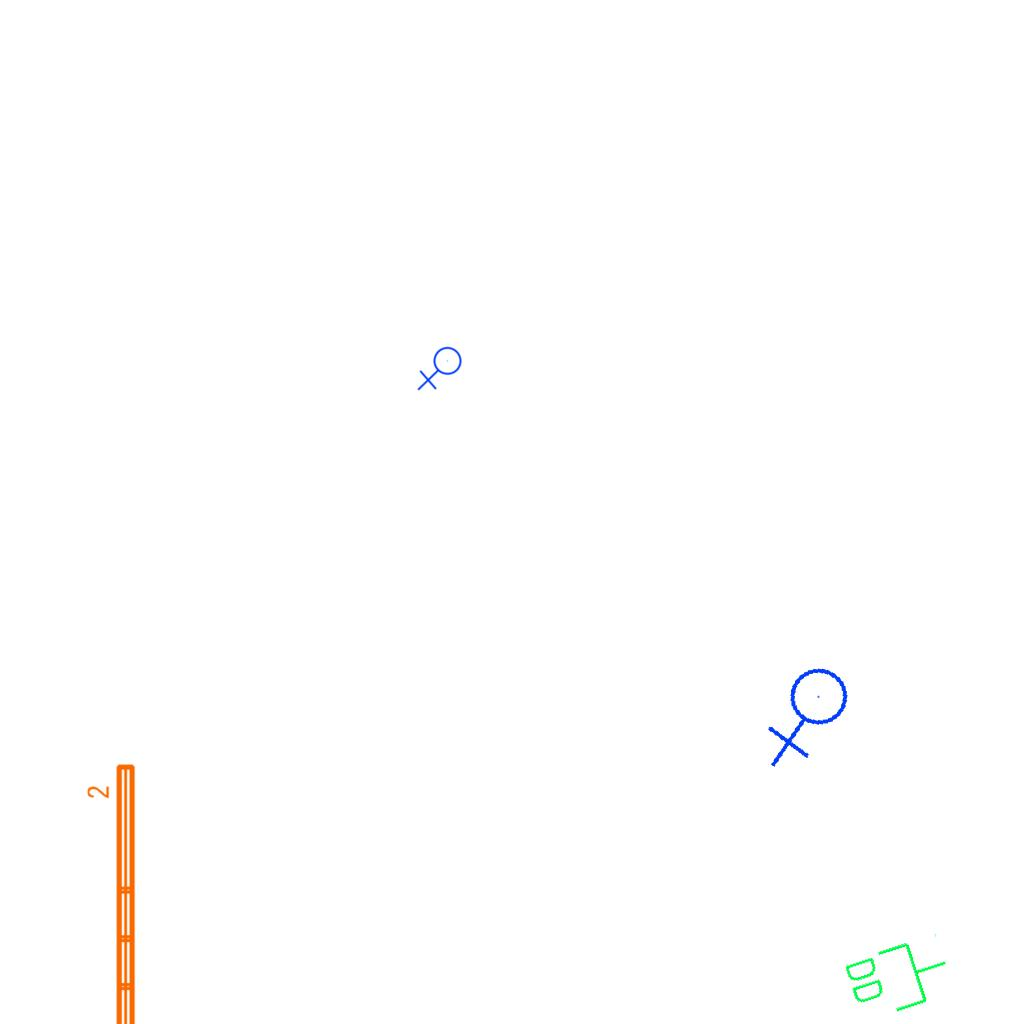Ambulanz_Pendelleuchte_LED: (85, 760, 141, 1024)
Datenanschluss_zweifach: (838, 928, 959, 1024)
Elektroanschluss_allgemein_230V_Geraeteanschlussdose_230V: (752, 659, 869, 773), (417, 346, 466, 393)
